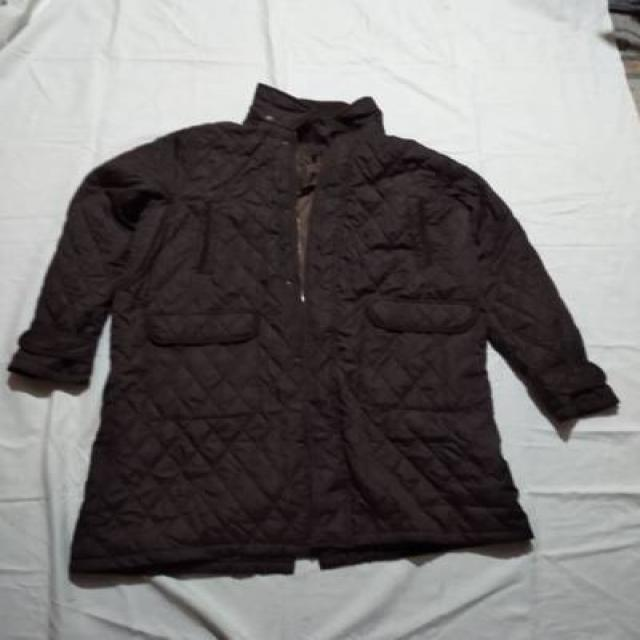Clothes -Biodegradable-: (11, 76, 615, 581)
